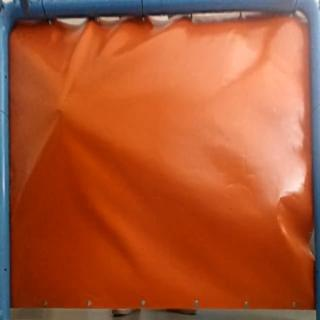Hit-hRxx: (48, 104, 68, 118)
